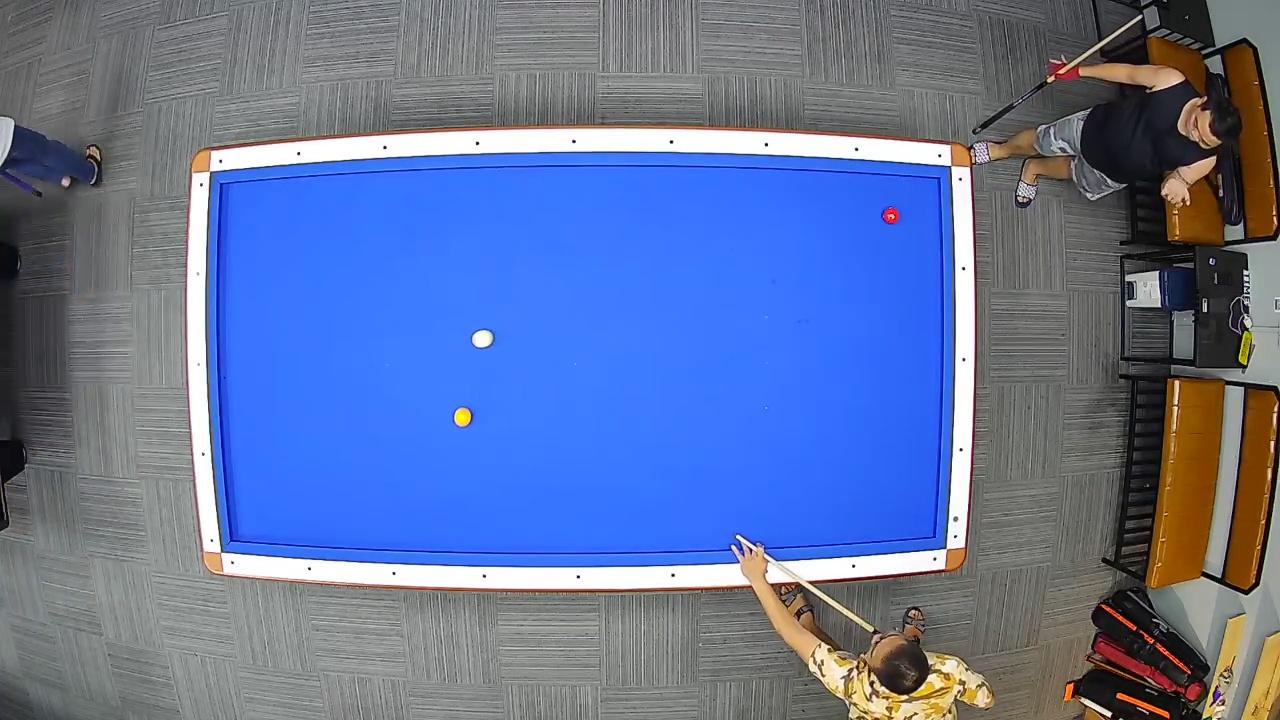Red: (882, 205, 901, 224)
White: (470, 327, 496, 350)
Yellow: (452, 405, 474, 428)
